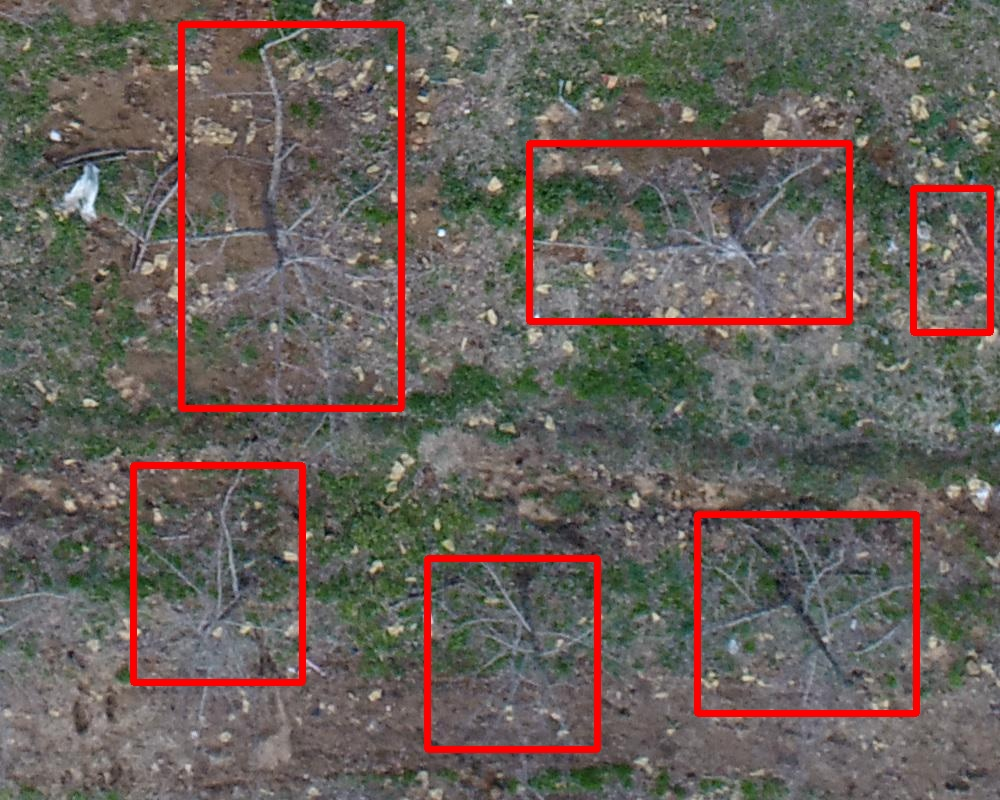apple: (181, 24, 401, 408), (529, 143, 849, 321), (697, 514, 916, 713), (133, 465, 302, 682), (427, 558, 597, 749), (913, 188, 990, 332)
